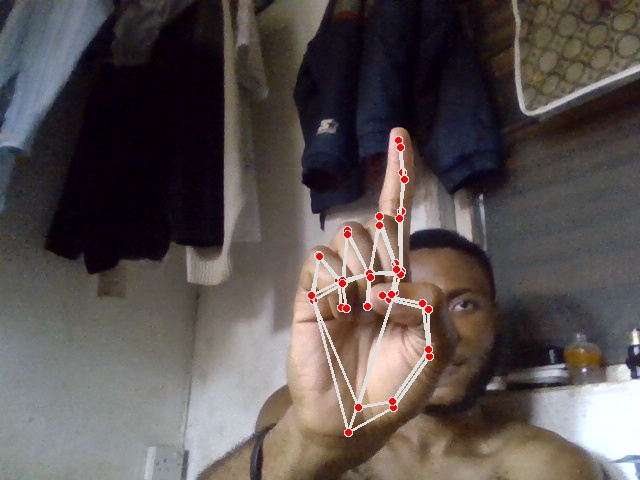number1: (288, 126, 460, 448)
